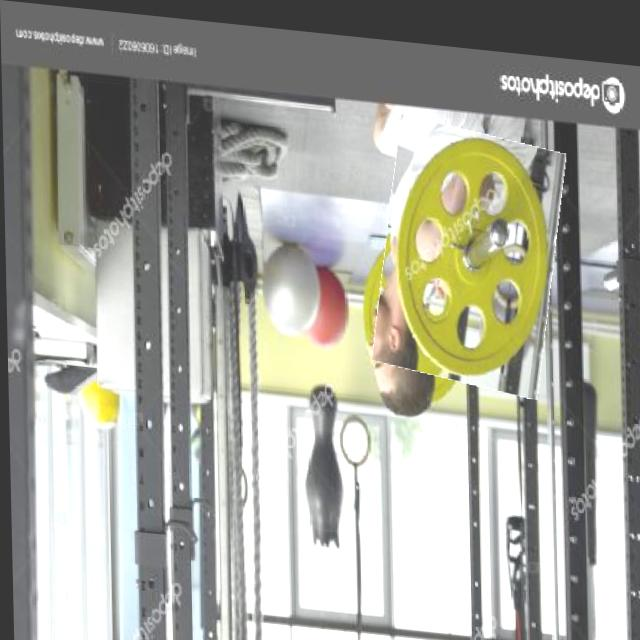barbell: (376, 109, 563, 386)
